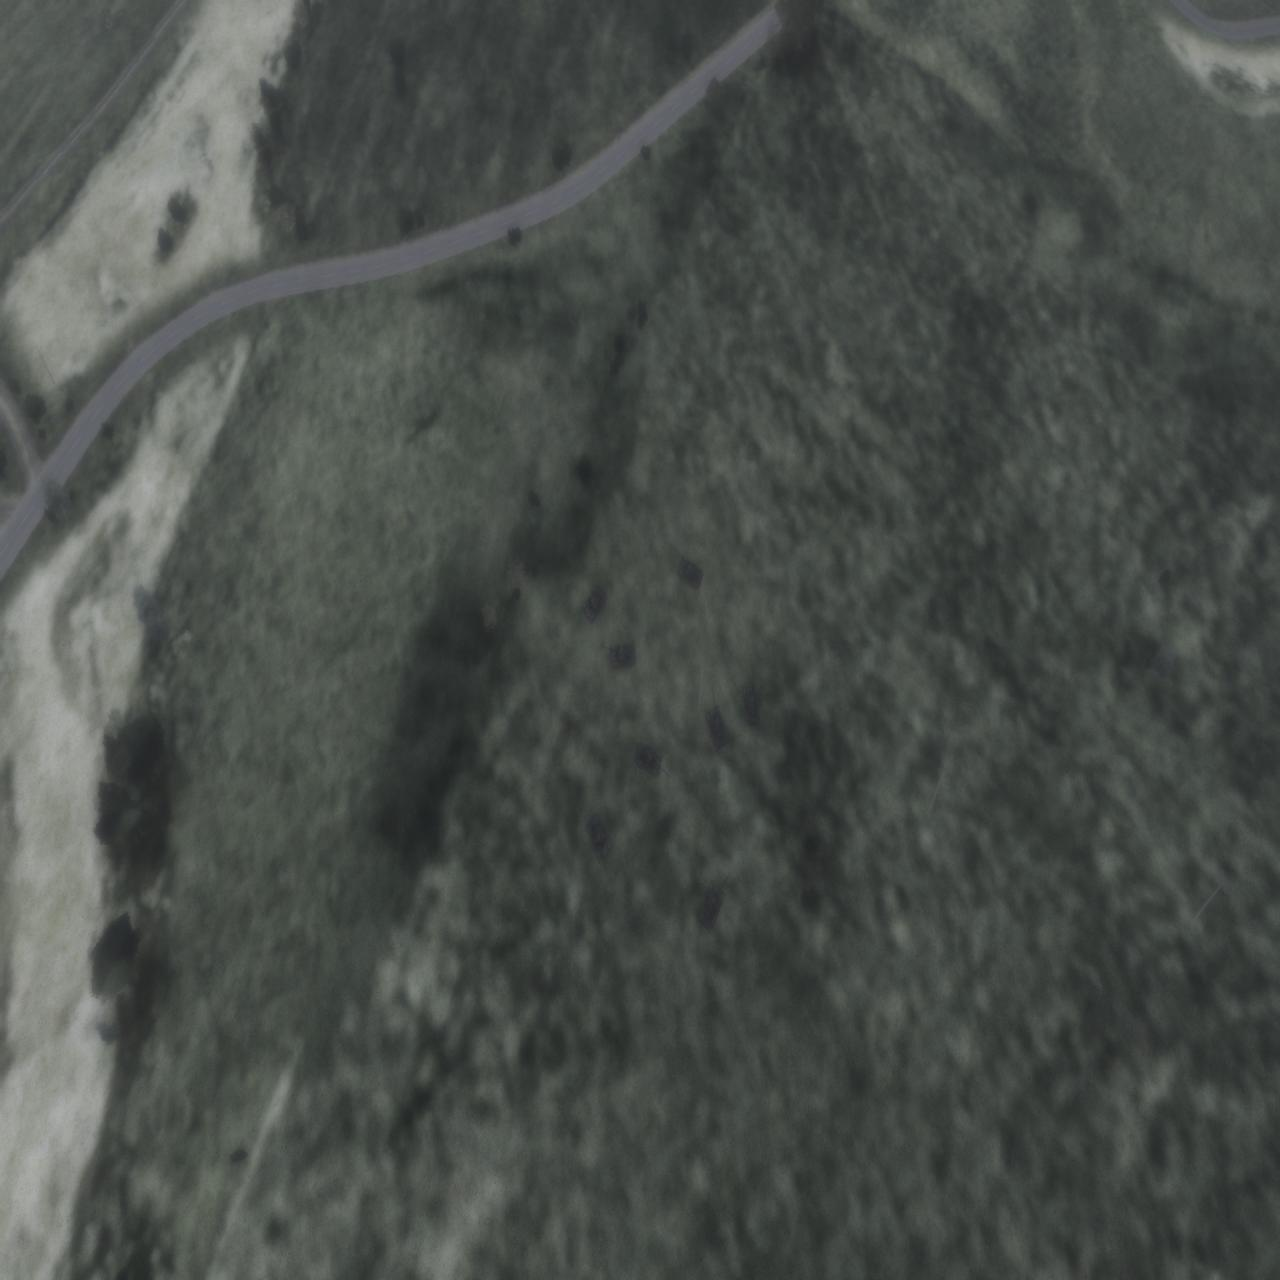MIL_Veh: (629, 736, 672, 787), (697, 869, 730, 931), (703, 685, 731, 750), (585, 811, 612, 877), (598, 635, 639, 673), (742, 659, 763, 730), (580, 584, 610, 625), (676, 554, 707, 591)
